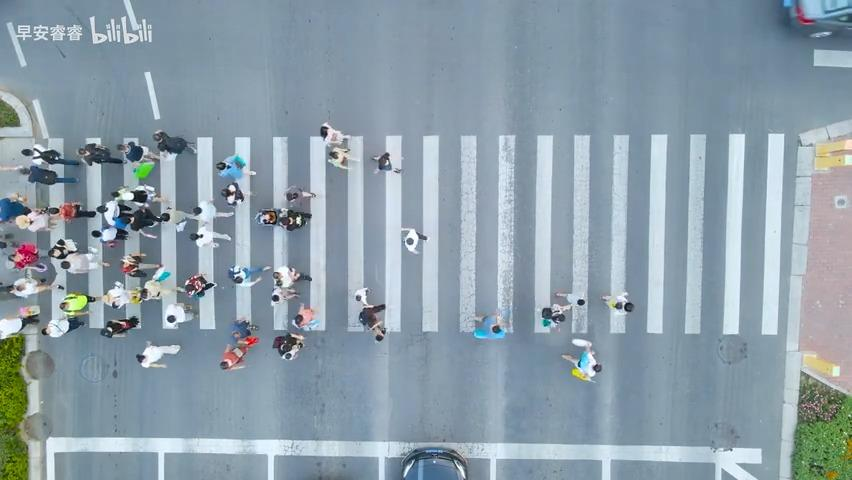Civilian: (97, 277, 147, 315), (560, 338, 602, 383), (54, 246, 115, 275), (52, 287, 105, 320), (21, 140, 79, 169), (137, 265, 168, 313), (9, 275, 68, 300), (20, 165, 73, 192), (42, 317, 86, 349), (189, 226, 237, 255), (12, 207, 60, 236), (195, 201, 241, 231), (74, 139, 120, 169), (270, 267, 319, 295), (135, 339, 181, 368), (221, 314, 258, 350), (111, 177, 158, 205), (117, 133, 156, 165), (7, 242, 47, 273), (152, 198, 194, 226), (113, 249, 156, 276), (127, 210, 159, 246), (152, 129, 196, 155), (215, 179, 257, 206), (216, 153, 256, 181), (358, 303, 386, 342), (48, 203, 93, 227), (227, 264, 271, 287), (272, 332, 306, 360), (472, 311, 506, 339), (90, 197, 127, 222), (100, 315, 140, 338), (90, 224, 129, 247), (184, 272, 217, 299), (266, 289, 298, 316), (252, 206, 286, 230), (291, 303, 320, 331), (219, 343, 248, 370), (164, 302, 194, 328), (284, 185, 316, 209), (401, 227, 429, 254), (541, 303, 572, 327), (327, 146, 359, 169), (371, 151, 403, 174), (282, 210, 317, 231), (600, 291, 634, 312), (320, 121, 344, 144), (554, 290, 585, 305), (353, 286, 371, 306)
